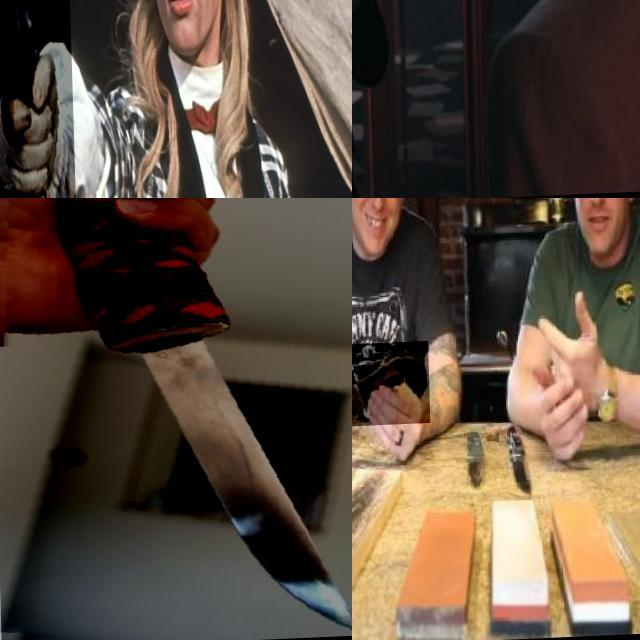-: (0, 198, 352, 640), (352, 343, 427, 428)
gun-knife-thesis - v11 Yolov5 augmented: (0, 0, 73, 198), (352, 0, 414, 63)
